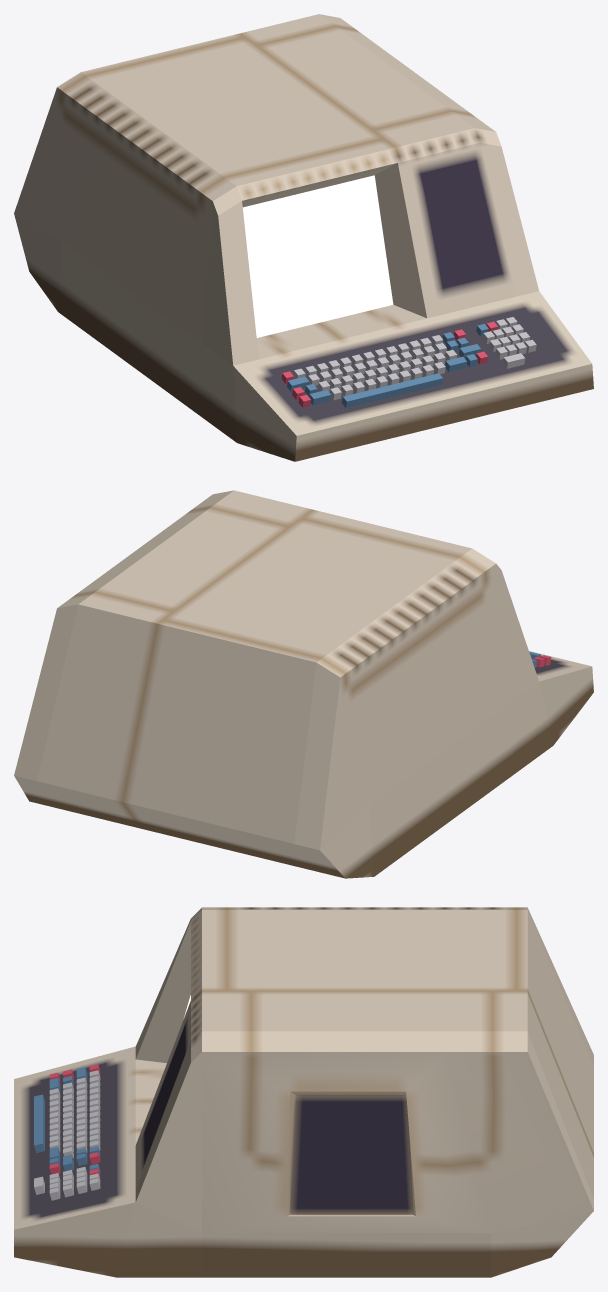
3 views of the same model, one above another, from view 1: azimuth 30°, elevation 25°; view 2: azimuth 150°, elevation 25°; view 3: azimuth 270°, elevation 25° (orthographic). The views are drawn at different scales.
Parts seen in each view (by area): view 1: LR_T_computer_1, LR_T_screen_1, LR_T_key_1; view 2: LR_T_computer_1; view 3: LR_T_computer_1, LR_T_key_1.
Part boxes in pixels (box(x1,y1,x2,y2)): LR_T_computer_1: box(14, 14, 593, 461); LR_T_screen_1: box(242, 175, 393, 337); LR_T_key_1: box(342, 373, 443, 407); LR_T_computer_1: box(14, 490, 593, 878); LR_T_computer_1: box(14, 907, 593, 1277); LR_T_key_1: box(34, 1094, 44, 1152).
Bounding box in the file's own units: 2.71 × 1.82 × 4.12.
